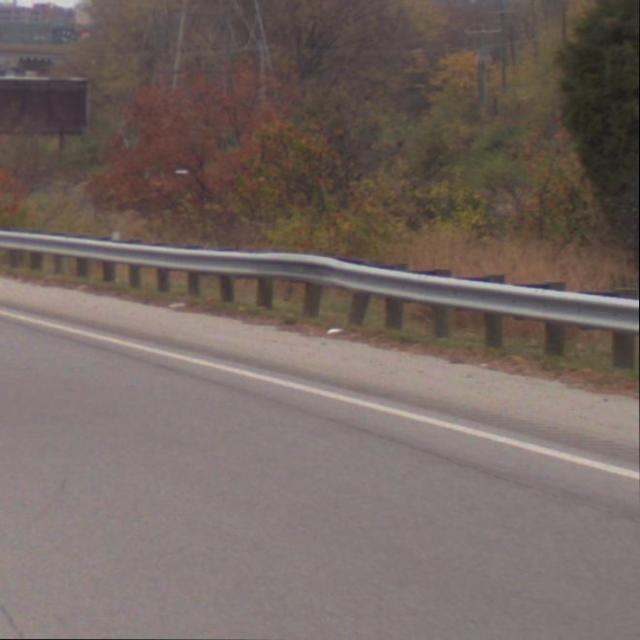Guard rail: (0, 222, 637, 371)
